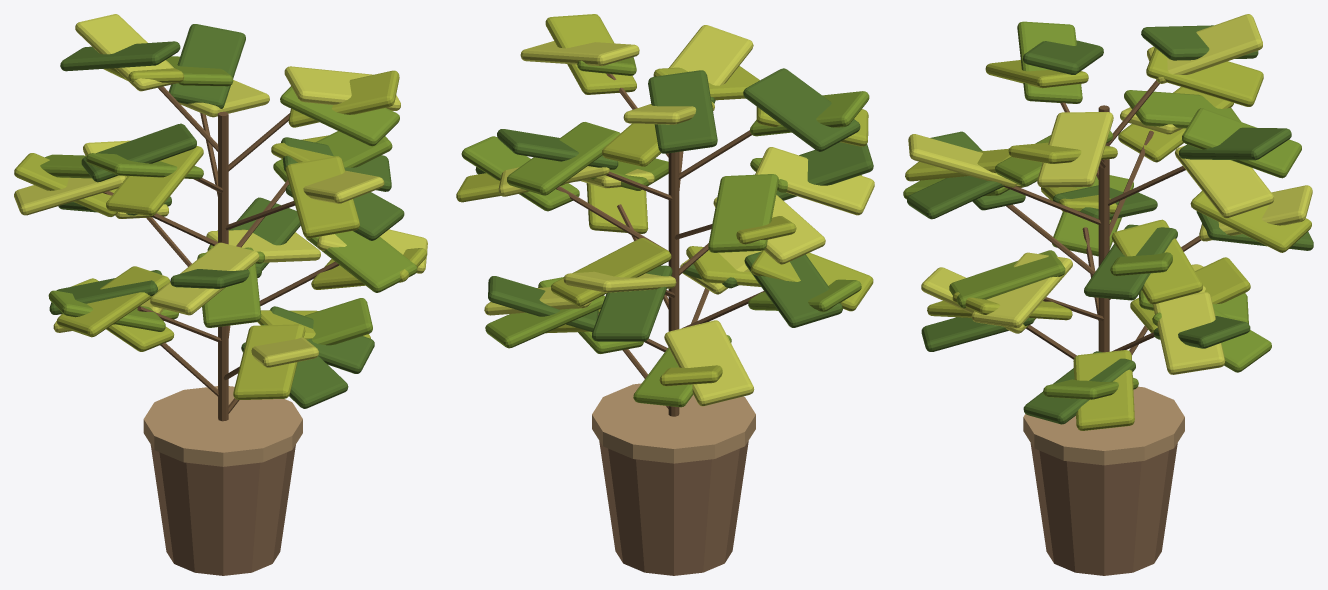
File: plant_broadleaf.glb
3 views of the same model, side by side, from view 1: azimuth 30°, elevation 25°; view 2: azimuth 150°, elevation 25°; view 3: azimuth 270°, elevation 25° (orthographic). The views are drawn at different scales.
Visible parts, largest first — view 1: plant_broadleaf__leaf_light, plant_broadleaf__leaf, plant_broadleaf__leaf_tip, plant_broadleaf__leaf_mid, plant_broadleaf__terracotta, plant_broadleaf__pot_rim, plant_broadleaf__bark; view 2: plant_broadleaf__leaf, plant_broadleaf__leaf_tip, plant_broadleaf__leaf_mid, plant_broadleaf__leaf_light, plant_broadleaf__terracotta, plant_broadleaf__pot_rim, plant_broadleaf__bark; view 3: plant_broadleaf__leaf_light, plant_broadleaf__leaf_tip, plant_broadleaf__leaf, plant_broadleaf__leaf_mid, plant_broadleaf__terracotta, plant_broadleaf__pot_rim, plant_broadleaf__bark.
Boxes of the visible parts, x1,y1,x2,y2 form: plant_broadleaf__leaf_light: [14, 68, 427, 399]; plant_broadleaf__leaf: [49, 24, 404, 408]; plant_broadleaf__leaf_tip: [14, 14, 427, 367]; plant_broadleaf__leaf_mid: [40, 56, 417, 345]; plant_broadleaf__terracotta: [150, 445, 295, 575]; plant_broadleaf__pot_rim: [143, 386, 302, 466]; plant_broadleaf__bark: [103, 86, 339, 421]; plant_broadleaf__leaf: [475, 68, 873, 341]; plant_broadleaf__leaf_tip: [484, 25, 874, 406]; plant_broadleaf__leaf_mid: [461, 57, 869, 407]; plant_broadleaf__leaf_light: [456, 14, 873, 386]; plant_broadleaf__terracotta: [599, 441, 748, 575]; plant_broadleaf__pot_rim: [592, 383, 755, 463]; plant_broadleaf__bark: [556, 73, 764, 416]; plant_broadleaf__leaf_light: [905, 48, 1311, 430]; plant_broadleaf__leaf_tip: [908, 14, 1312, 374]; plant_broadleaf__leaf: [907, 25, 1313, 424]; plant_broadleaf__leaf_mid: [903, 21, 1301, 399]; plant_broadleaf__terracotta: [1030, 443, 1177, 575]; plant_broadleaf__pot_rim: [1023, 386, 1184, 465]; plant_broadleaf__bark: [1004, 80, 1201, 359].
Size of the model in its own units: 0.9131 by 1.22 by 0.9077.
